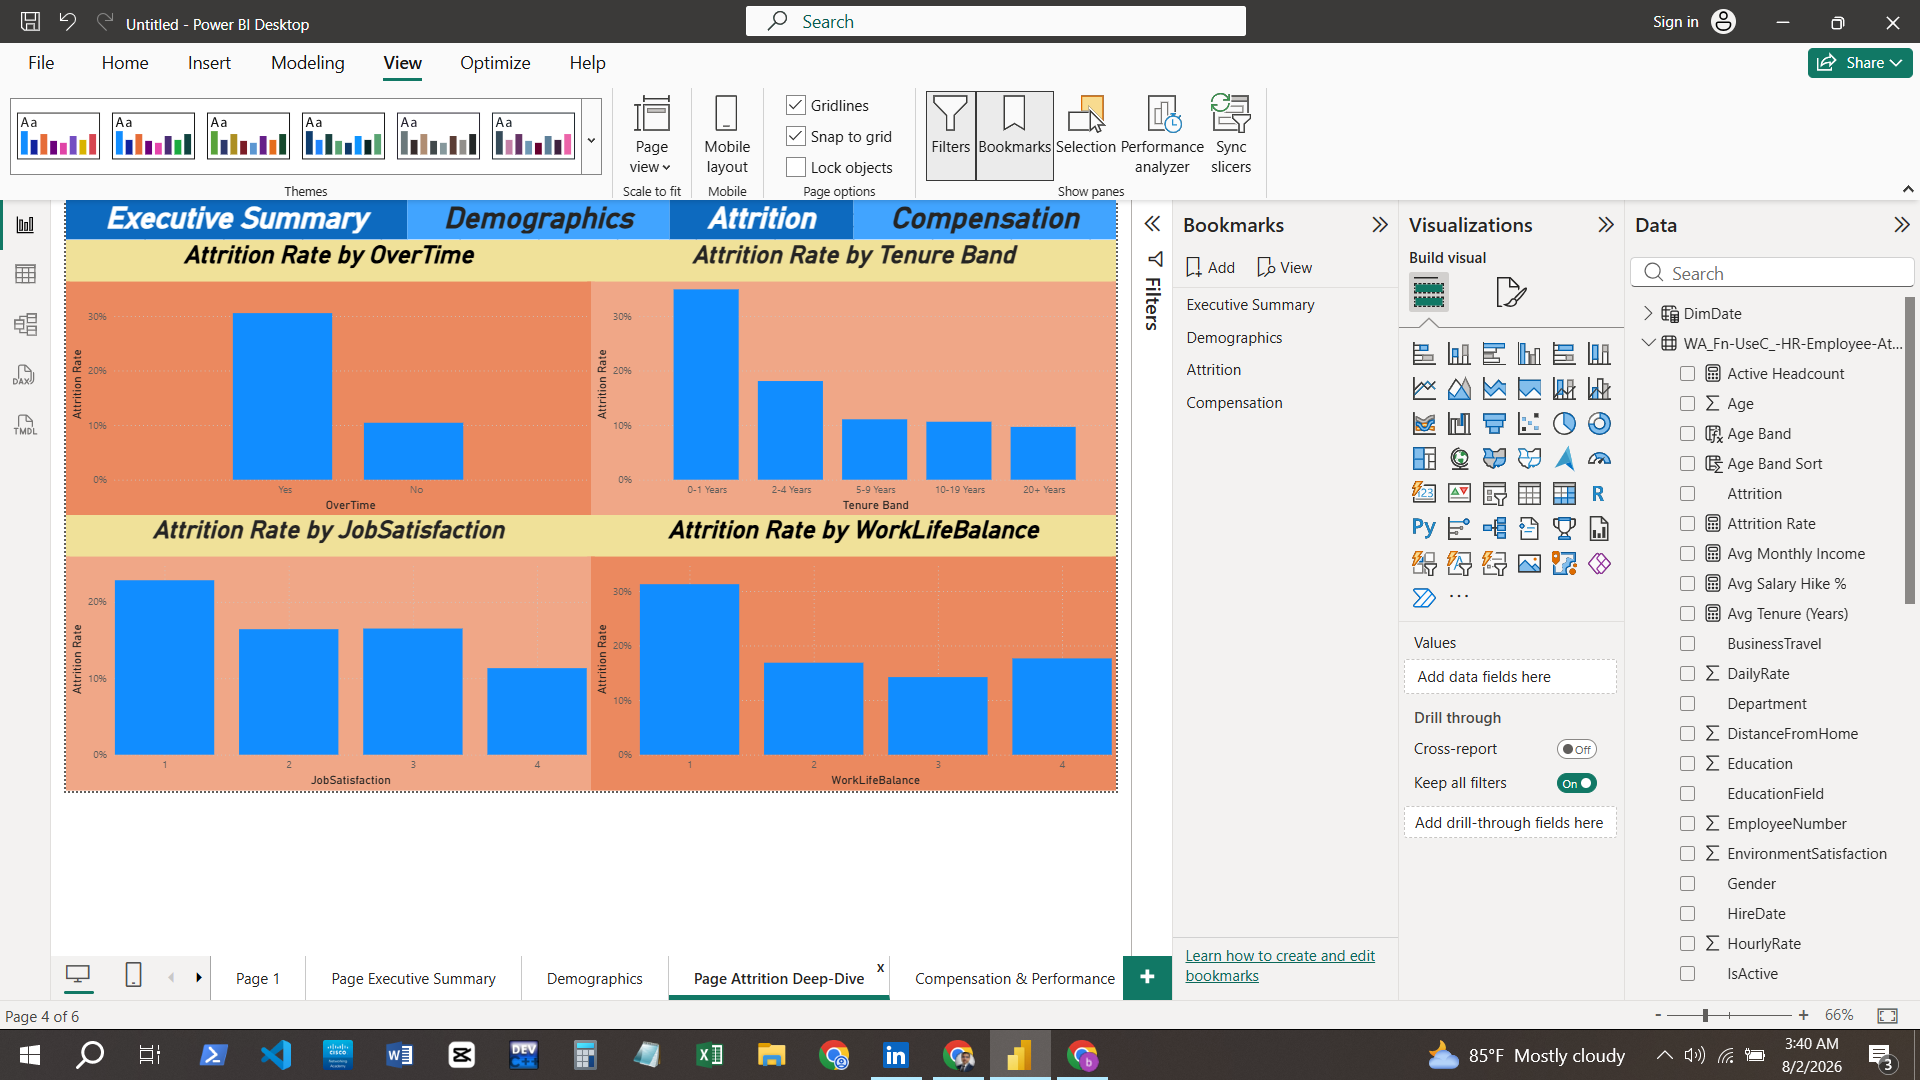

What the dashboard file says about the page in this screenshot:
{"tool":"powerbi","page":{"name":"Page Attrition Deep-Dive","canvas":[1280,720],"ordinal":2},"visuals":[{"type":"clusteredColumnChart","fields":{"Category":["WA_Fn-UseC_-HR-Employee-Attrition.OverTime"],"Y":["WA_Fn-UseC_-HR-Employee-Attrition.Attrition Rate"]},"box":[0,48,640,336],"z":0},{"type":"clusteredColumnChart","fields":{"Category":["WA_Fn-UseC_-HR-Employee-Attrition.JobSatisfaction"],"Y":["WA_Fn-UseC_-HR-Employee-Attrition.Attrition Rate"]},"box":[0,384,640,336],"z":1000},{"type":"clusteredColumnChart","fields":{"Category":["WA_Fn-UseC_-HR-Employee-Attrition.Tenure Band"],"Y":["WA_Fn-UseC_-HR-Employee-Attrition.Attrition Rate"]},"box":[640,48,640,336],"z":2000},{"type":"clusteredColumnChart","fields":{"Category":["WA_Fn-UseC_-HR-Employee-Attrition.WorkLifeBalance"],"Y":["WA_Fn-UseC_-HR-Employee-Attrition.Attrition Rate"]},"box":[640,384,640,336],"z":3000},{"type":"actionButton","title":"Executive Summary","box":[0,0,416,48],"z":4000},{"type":"actionButton","title":"Demographics","box":[416,0,320,48],"z":5000},{"type":"actionButton","title":"Attrition","box":[736,0,224,48],"z":6000},{"type":"actionButton","title":"Compensation","box":[960,0,320,48],"z":7000}]}

Visuals, with their boxes on the page's 1280x720 design canvas (x1, y1, x2, y2). These are canvas units, not pixel positions in the 1920x1080 screenshot, which may show the page scaled, cropped or inside an application window:
clusteredColumnChart - WA_Fn-UseC_-HR-Employee-Attrition.OverTime x WA_Fn-UseC_-HR-Employee-Attrition.Attrition Rate: box(0, 48, 640, 384)
clusteredColumnChart - WA_Fn-UseC_-HR-Employee-Attrition.JobSatisfaction x WA_Fn-UseC_-HR-Employee-Attrition.Attrition Rate: box(0, 384, 640, 720)
clusteredColumnChart - WA_Fn-UseC_-HR-Employee-Attrition.Tenure Band x WA_Fn-UseC_-HR-Employee-Attrition.Attrition Rate: box(640, 48, 1280, 384)
clusteredColumnChart - WA_Fn-UseC_-HR-Employee-Attrition.WorkLifeBalance x WA_Fn-UseC_-HR-Employee-Attrition.Attrition Rate: box(640, 384, 1280, 720)
"Executive Summary" actionButton: box(0, 0, 416, 48)
"Demographics" actionButton: box(416, 0, 736, 48)
"Attrition" actionButton: box(736, 0, 960, 48)
"Compensation" actionButton: box(960, 0, 1280, 48)
